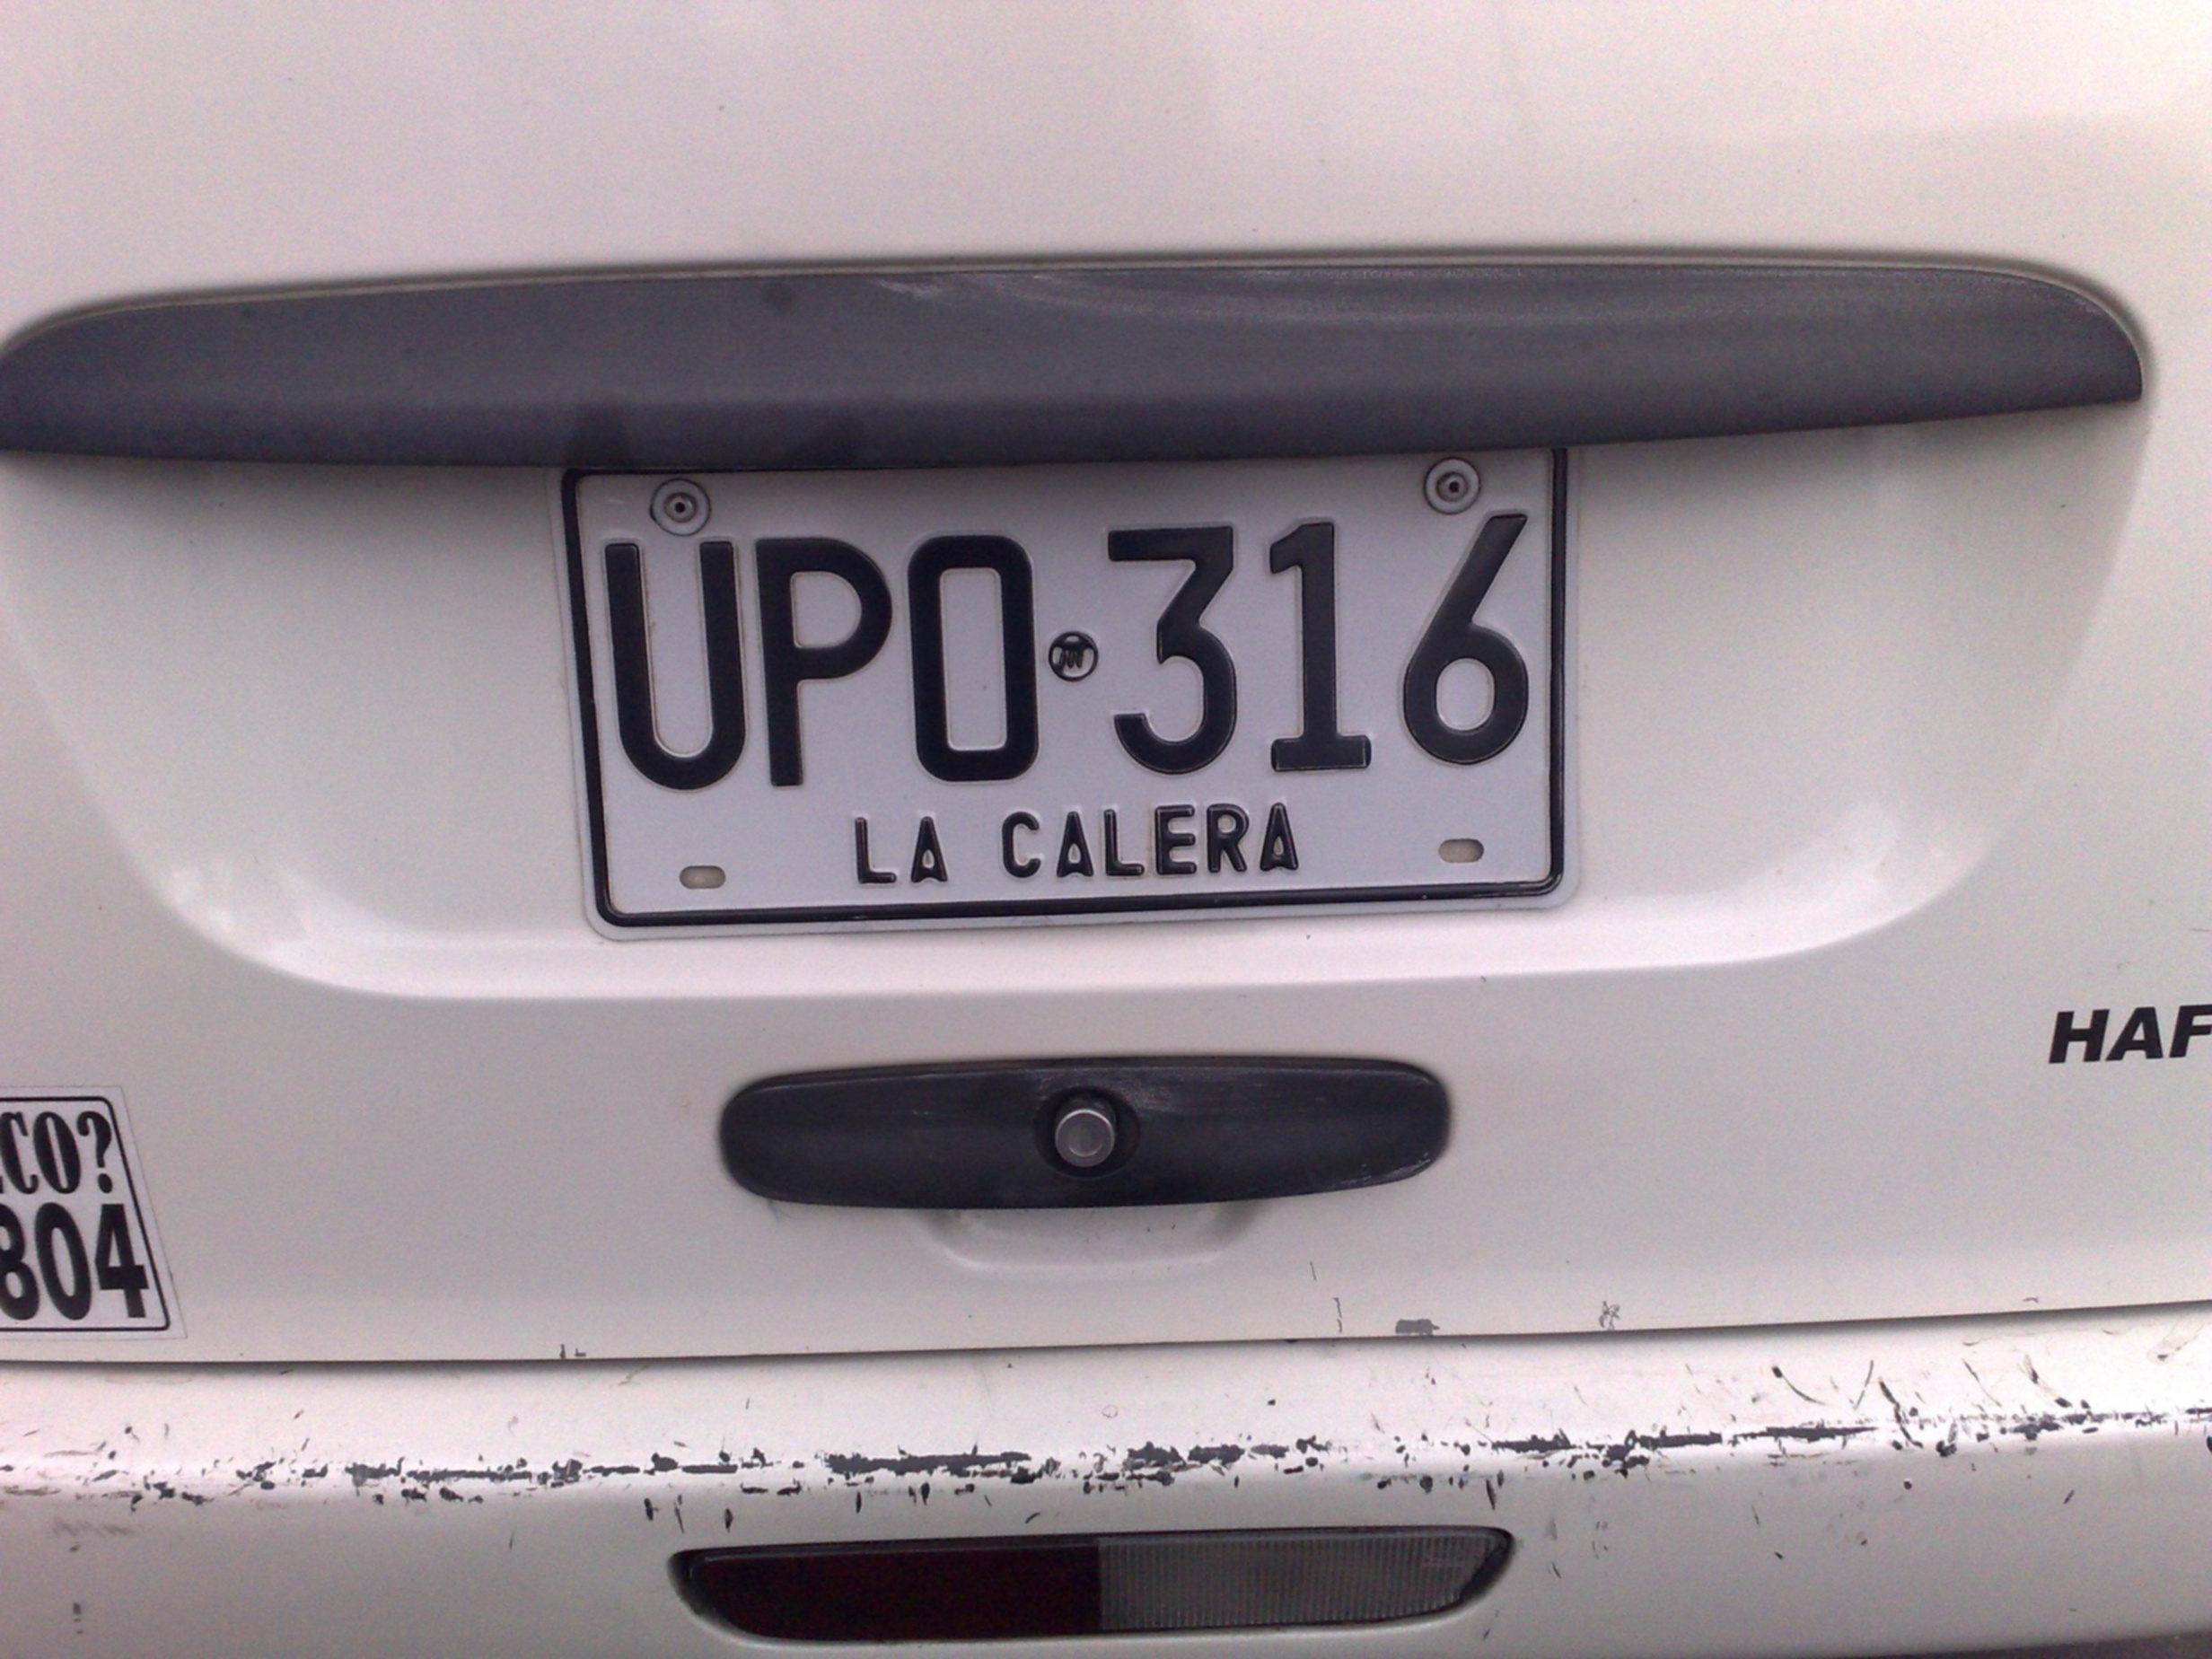placas: (540, 405, 1595, 960)
